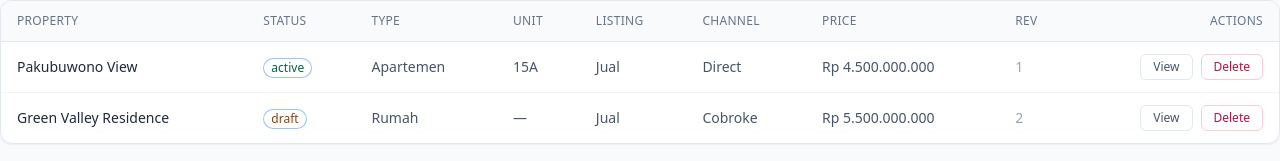
it: ListingsTable › delete confirm flow removes the row
Expected: the number of rows with test id "listing-row" is 2, [1, 42, 1279, 92]; [1, 92, 1279, 143]
Click the button with test id "delete-button" in the row of "Pakubuwono View" at (1232,67), box [1200, 54, 1263, 80]
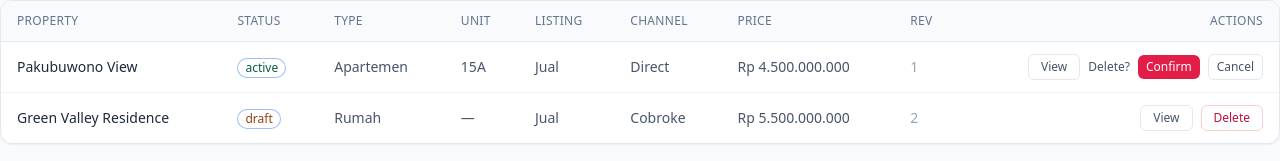
Expected: the element with test id "confirm-delete" is shown, [1088, 54, 1263, 80]
Click the button with test id "confirm-delete-yes" at (1169,67), box [1138, 55, 1200, 79]
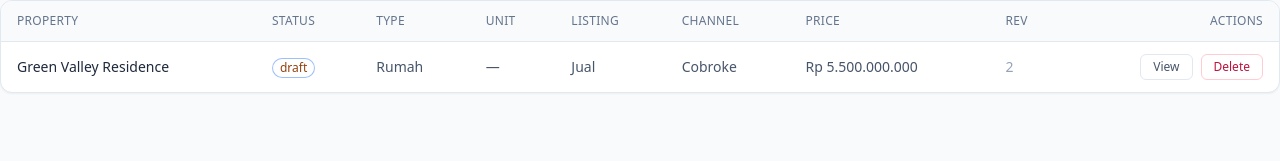
Expected: the number of rows with test id "listing-row" is 1, [1, 42, 1279, 92]
Expected: the link "Pakubuwono View" is gone
